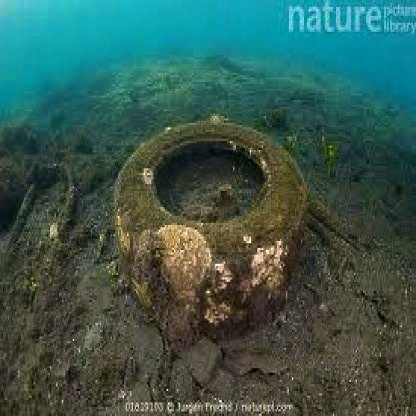tire: (124, 116, 307, 336)
